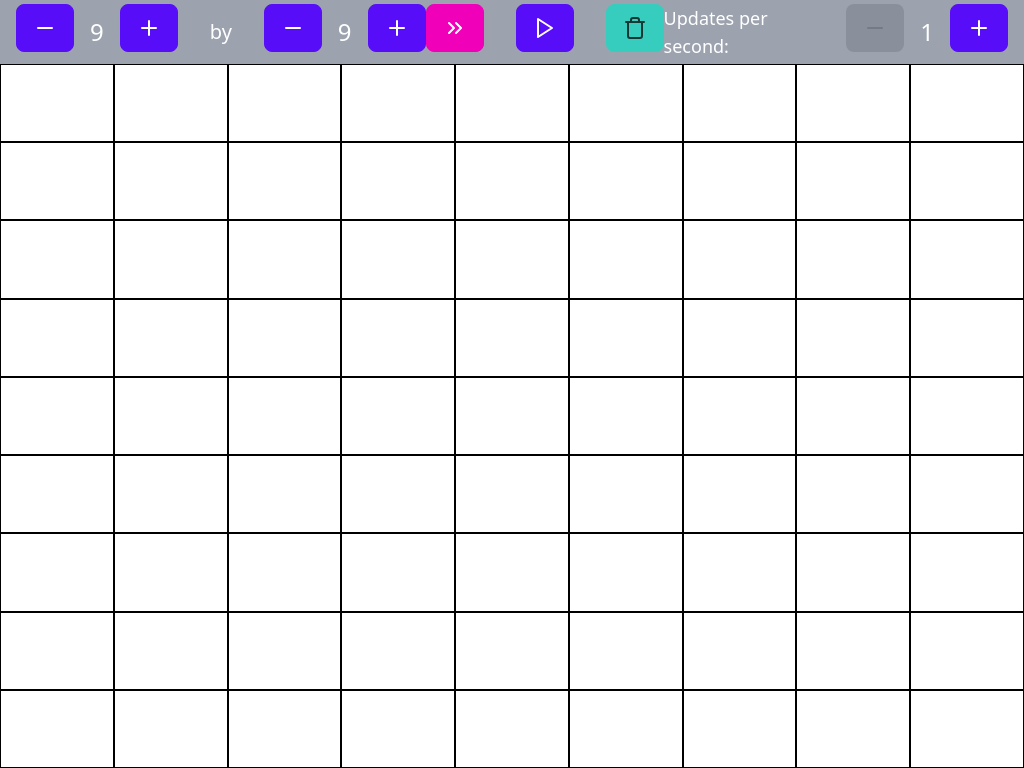
Test: changes from start to stop after clicking play button
Click the button titled "Play" at (545, 28), box [516,4,574,52]
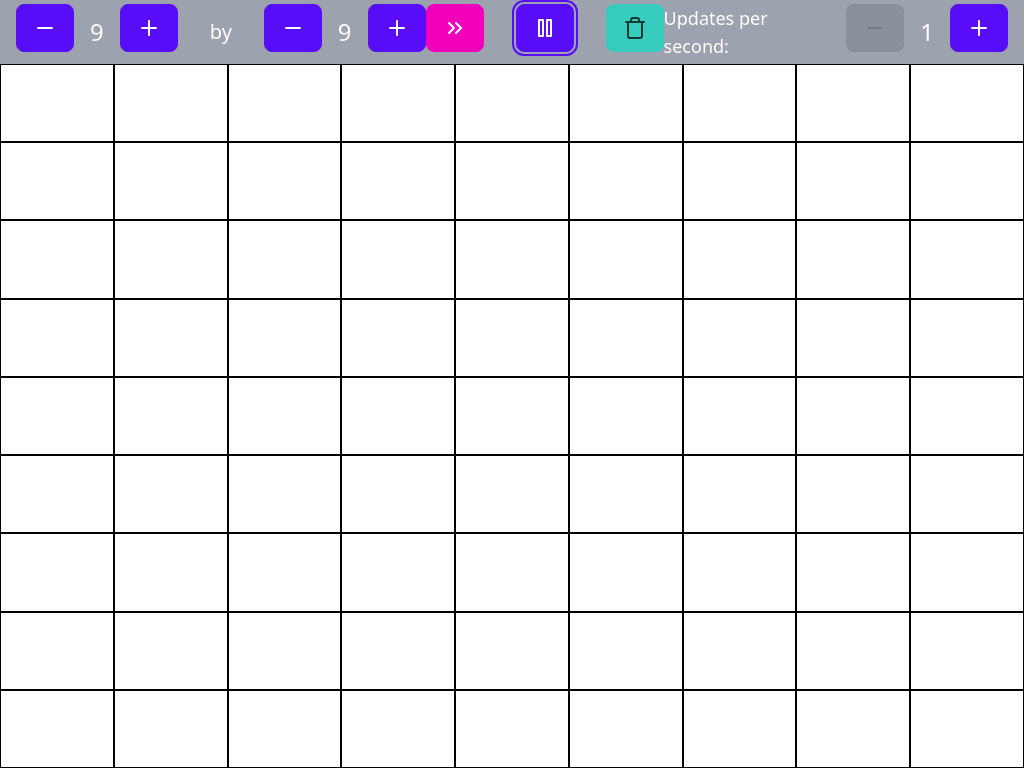
Click the button titled "Stop" at (545, 28), box [516,4,574,52]
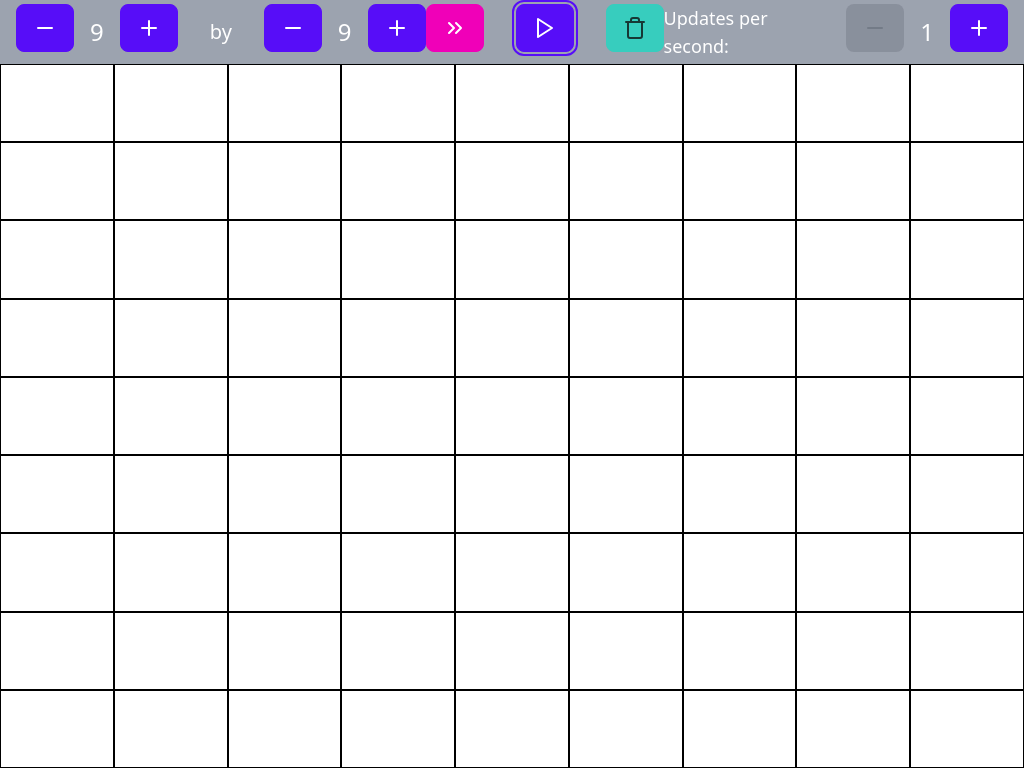
Check: the button titled "Play" is shown, box [516,4,574,52]
